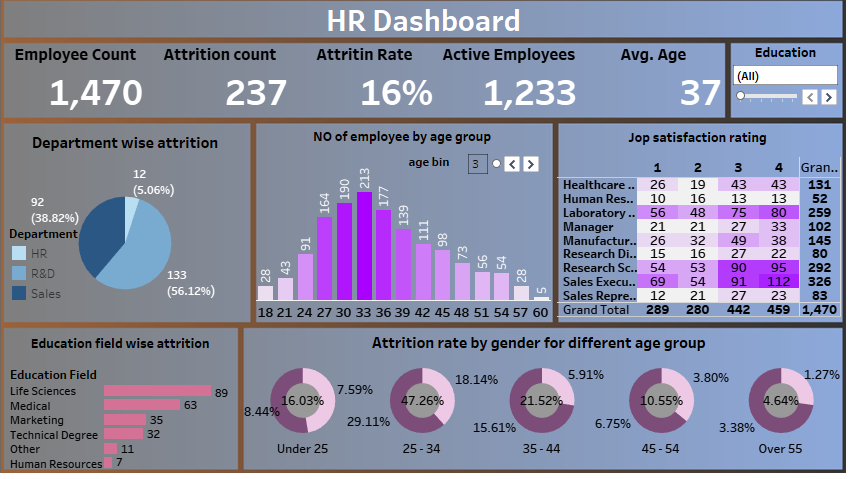

The page's visual inventory and layout, read from the dashboard file:
{"tool":"tableau","page":{"name":"HR Dashboard  ","canvas":[880,500],"ordinal":0},"visuals":[{"type":"image","param":"C:/Users/user/Downloads/HR background.pptx.png","box":[8,8,864,484]},{"type":"text","box":[18,16,835,37]},{"type":"filter","title":"Department wise attrition","param":"[federated.1379ib51tjt3no1dh90qf1d609s1].[none:Education:nk]","box":[742,58,111,73]},{"type":"worksheet","title":"KPI","mark":"Automatic","box":[15,59,723,74]},{"type":"worksheet","title":"NO of employee by age group ","mark":"Automatic","rows":["Employee Count"],"cols":["Age (bin)"],"box":[268,138,295,199]},{"type":"worksheet","title":"Jop satisfaction rating ","mark":"Square","rows":["Job Role"],"cols":["Job Satisfaction"],"box":[569,139,284,193]},{"type":"worksheet","title":"Department wise attrition","mark":"Pie","box":[16,143,242,194]},{"type":"parameter","param":"[Parameters].[Parameter 1]","box":[405,166,149,35]},{"type":"legend","title":"Department wise attrition","param":"[federated.1379ib51tjt3no1dh90qf1d609s1].[none:Department:nk]","box":[21,240,70,87]},{"type":"worksheet","title":"Attrition rate by gender for different age group  ","mark":"Pie","rows":["Calculation_897342258138066948","Calculation_897342258138066948"],"cols":["CF_age band"],"box":[255,343,598,141]},{"type":"worksheet","title":"Education field wise attrition ","mark":"Automatic","rows":["Education Field"],"cols":["Calculation_897342258090614784"],"box":[16,345,235,140]}]}

Visuals, with their boxes in screenshot pixels (x1, y1, x2, y2), scaled from the page's 880x500 canvas onto the 848x479 screenshot:
image: bbox(8, 8, 840, 471)
text: bbox(17, 15, 822, 51)
"Department wise attrition" filter: bbox(715, 56, 822, 125)
"KPI" worksheet: bbox(14, 57, 711, 127)
"NO of employee by age group " worksheet: bbox(258, 132, 543, 323)
"Jop satisfaction rating " worksheet (Square marks): bbox(548, 133, 822, 318)
"Department wise attrition" worksheet (Pie marks): bbox(15, 137, 249, 323)
parameter: bbox(390, 159, 534, 193)
"Department wise attrition" legend: bbox(20, 230, 88, 313)
"Attrition rate by gender for different age group  " worksheet (Pie marks): bbox(246, 329, 822, 464)
"Education field wise attrition " worksheet: bbox(15, 331, 242, 465)
